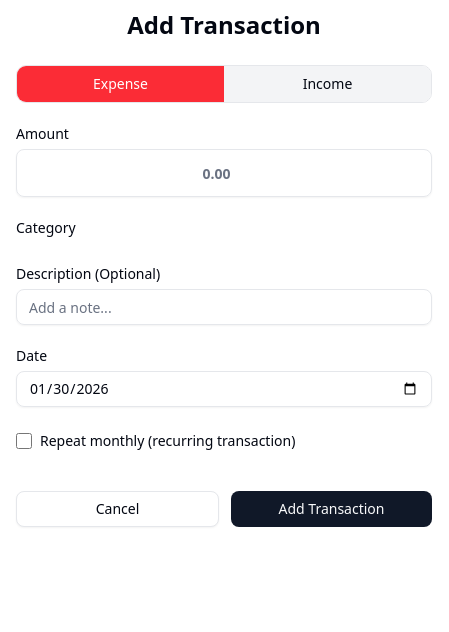
Basic Integration Tests › Transaction Form Integration › should toggle between income and expense
The width and height of the screenshot is (449, 632).
// Click income
Click the button "Income" at (328, 84), box [224,66,431,102]
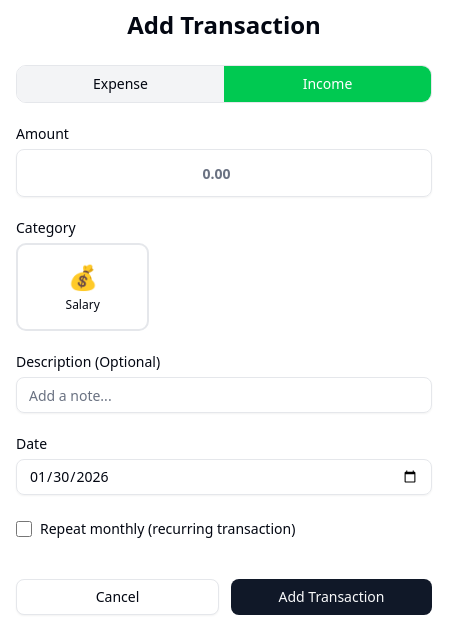
Now the text "Salary" is shown, box [66,297,100,313]
